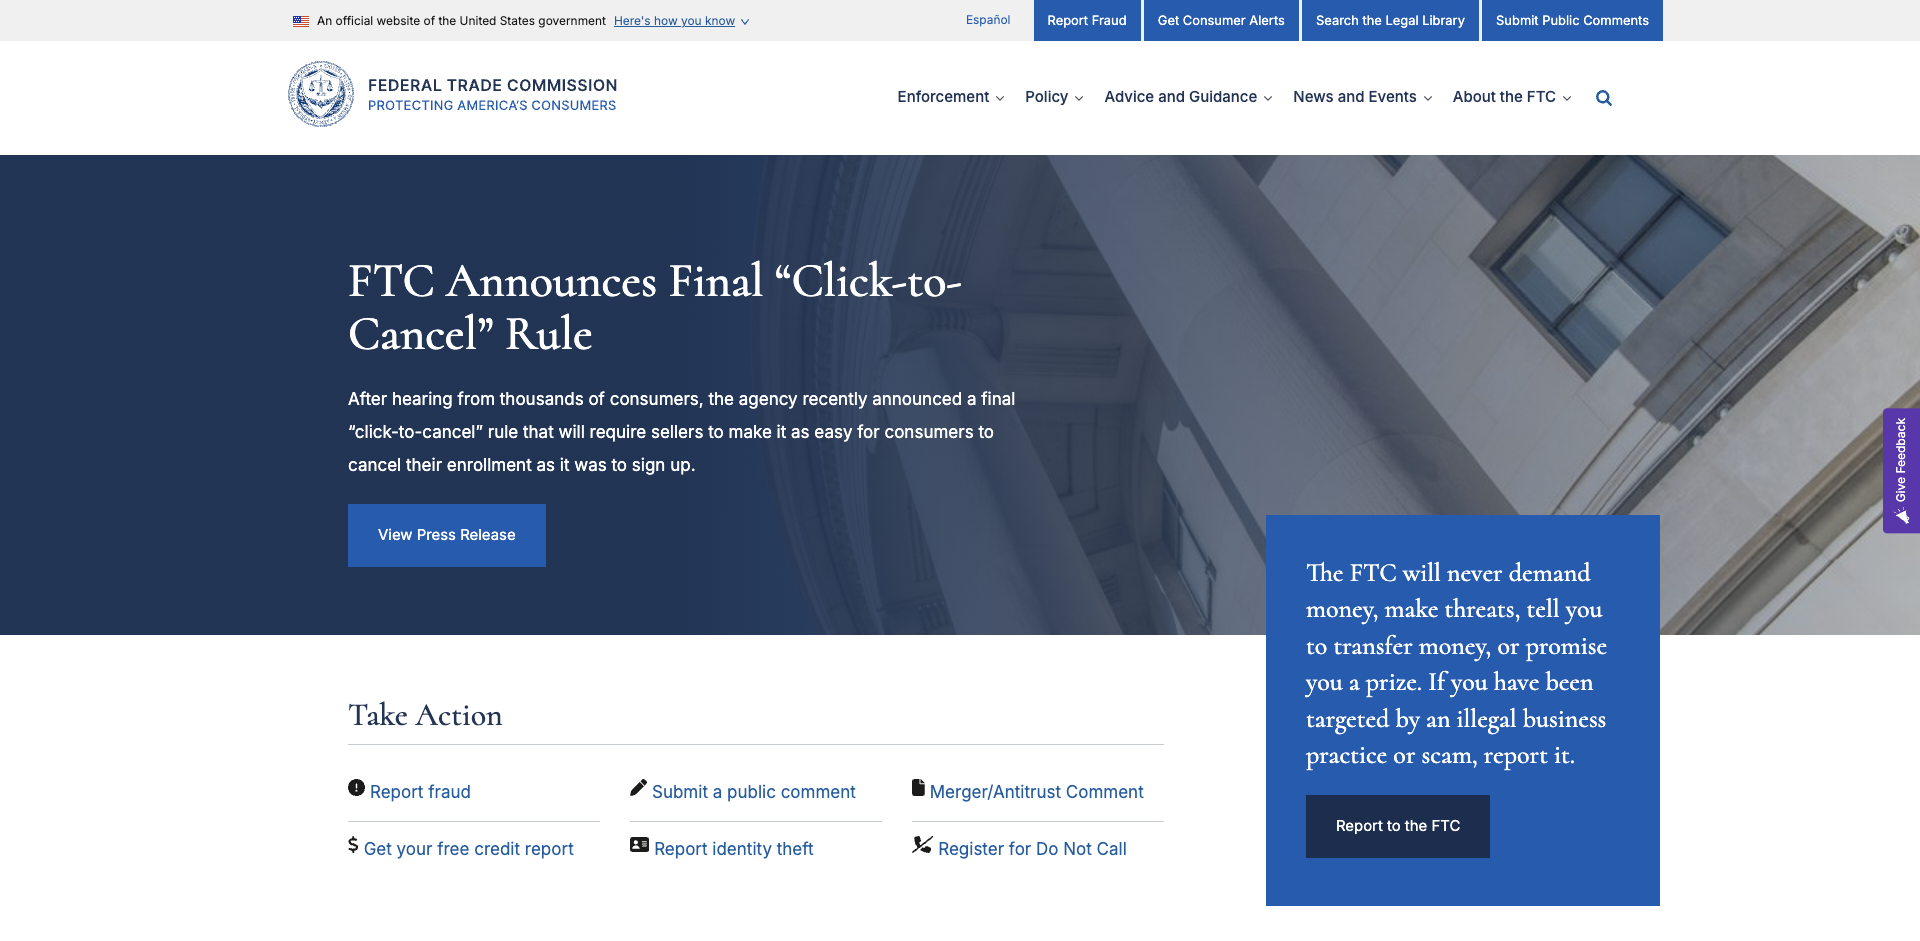button: (348, 504, 546, 567), (1307, 795, 1490, 858), (1104, 72, 1277, 124), (1293, 72, 1436, 124), (1452, 72, 1576, 124), (898, 72, 1009, 124), (1883, 408, 1920, 533), (1025, 72, 1089, 124), (1104, 87, 1258, 107), (1293, 87, 1417, 107), (1452, 87, 1556, 107), (613, 15, 749, 28), (898, 87, 989, 107), (613, 13, 735, 28), (1025, 87, 1069, 107), (1592, 86, 1616, 110)
dropdown: (1104, 72, 1277, 124), (1293, 72, 1436, 124), (1452, 72, 1576, 124), (898, 72, 1009, 124), (1025, 72, 1089, 124), (1592, 86, 1616, 110)
link: (288, 96, 633, 135), (1482, 0, 1663, 40), (1302, 0, 1479, 40), (1144, 0, 1299, 40), (929, 779, 1144, 806), (364, 836, 574, 863), (651, 779, 856, 806), (938, 836, 1127, 863), (1033, 0, 1140, 40), (654, 836, 813, 863), (370, 779, 471, 806), (951, 0, 1025, 29), (1862, 883, 1900, 921)
